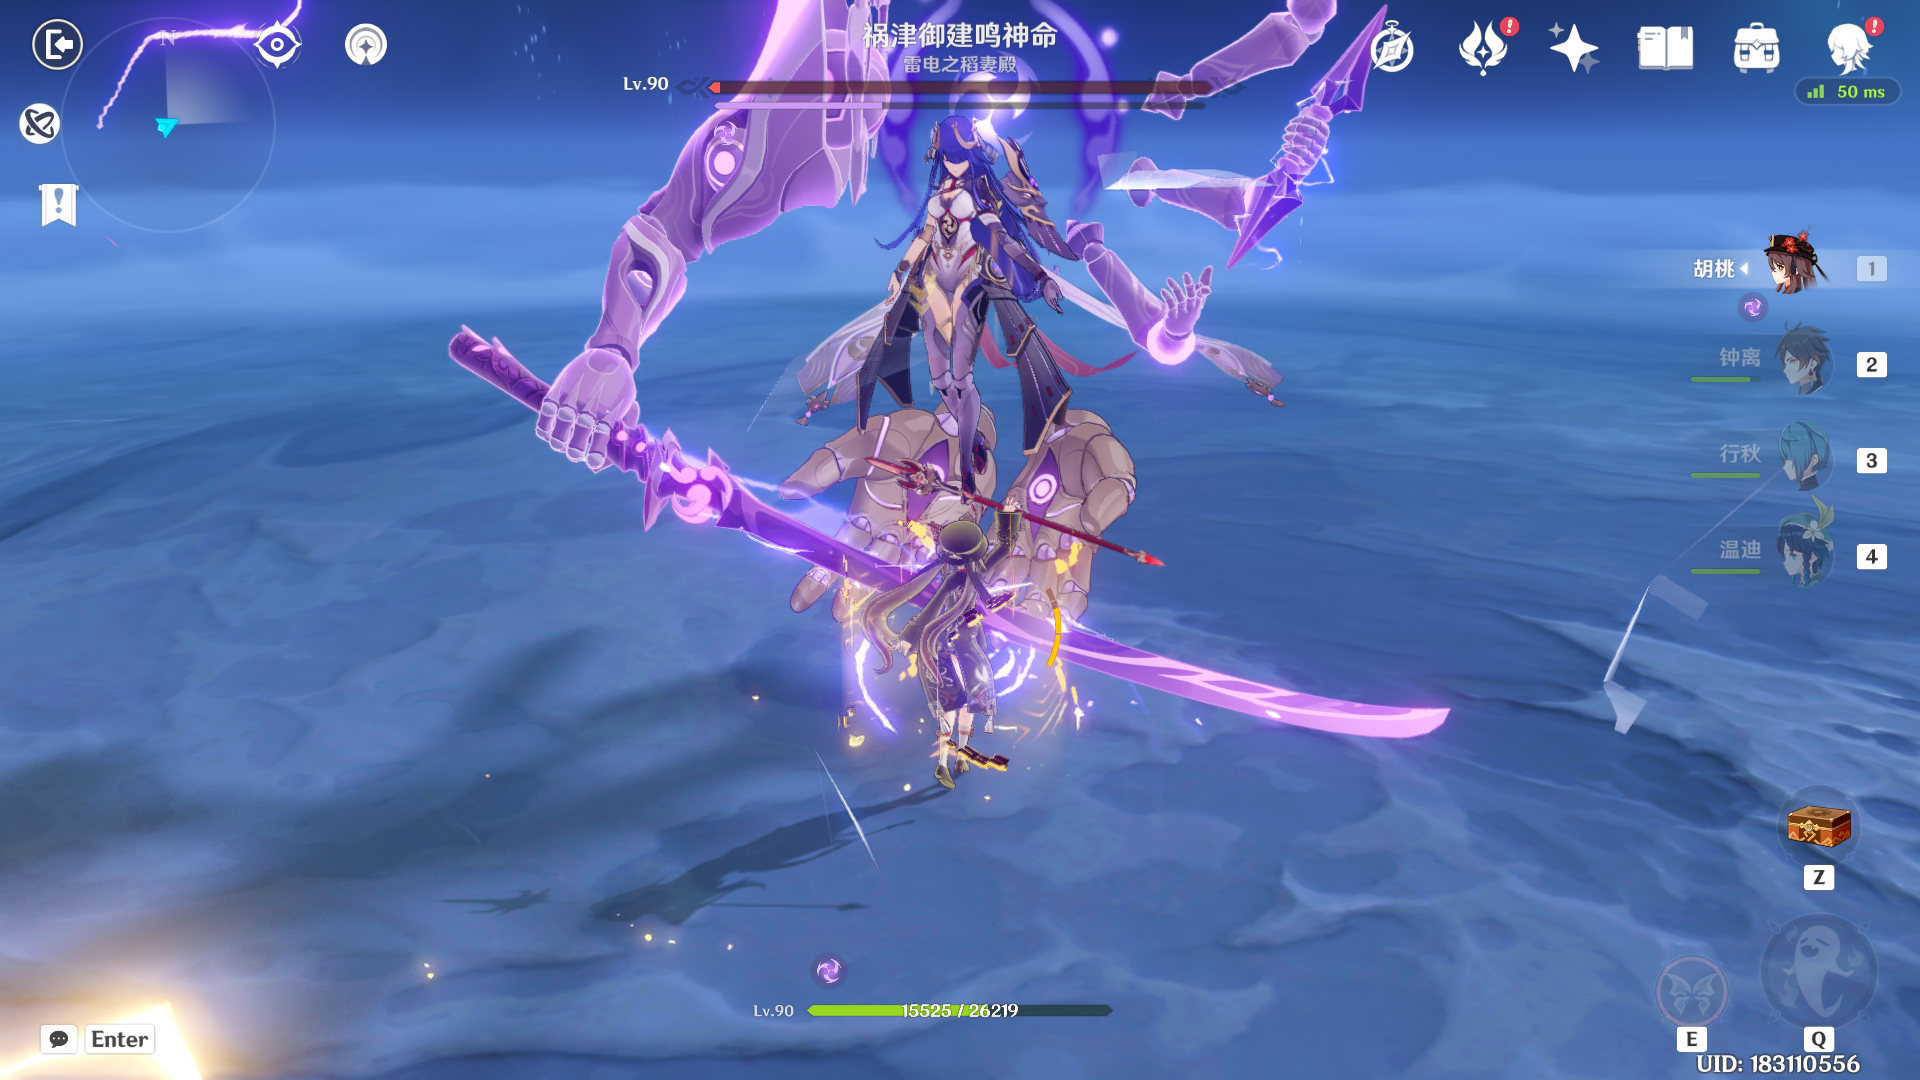character: (825, 94, 1106, 524), (836, 495, 1069, 847)
